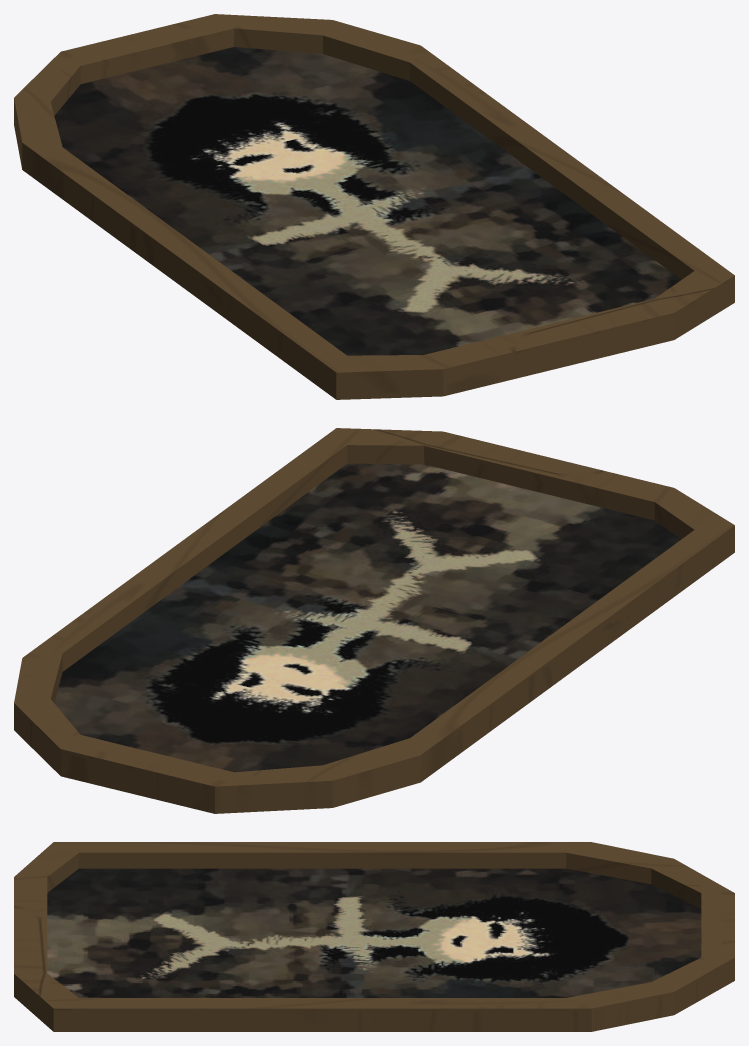
Rendered from zoe.fbx.
3 views of the same model, one above another, from view 1: azimuth 30°, elevation 25°; view 2: azimuth 150°, elevation 25°; view 3: azimuth 270°, elevation 25° (orthographic). The views are drawn at different scales.
Visible parts, largest first — view 1: Cuadros.002; view 2: Cuadros.002; view 3: Cuadros.002.
Boxes of the visible parts, x1,y1,x2,y2 form: Cuadros.002: [14, 14, 734, 399]; Cuadros.002: [14, 428, 734, 813]; Cuadros.002: [14, 842, 734, 1031].
Size of the model in its own units: 40 by 2.61 by 73.19.
Materials: 2 (2 with a texture image).
